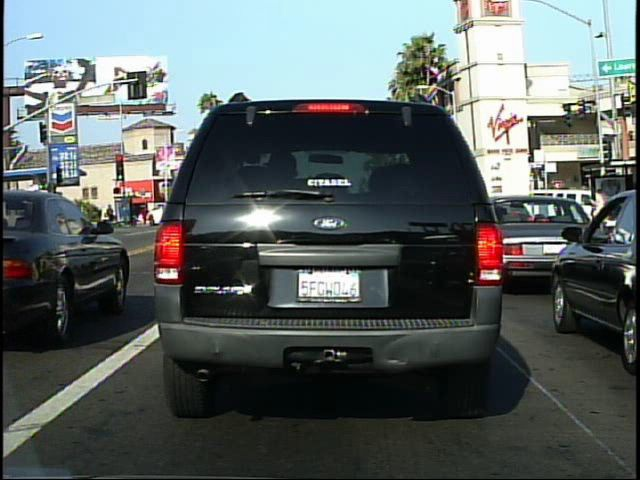person: (588, 184, 609, 243), (103, 199, 118, 224)
